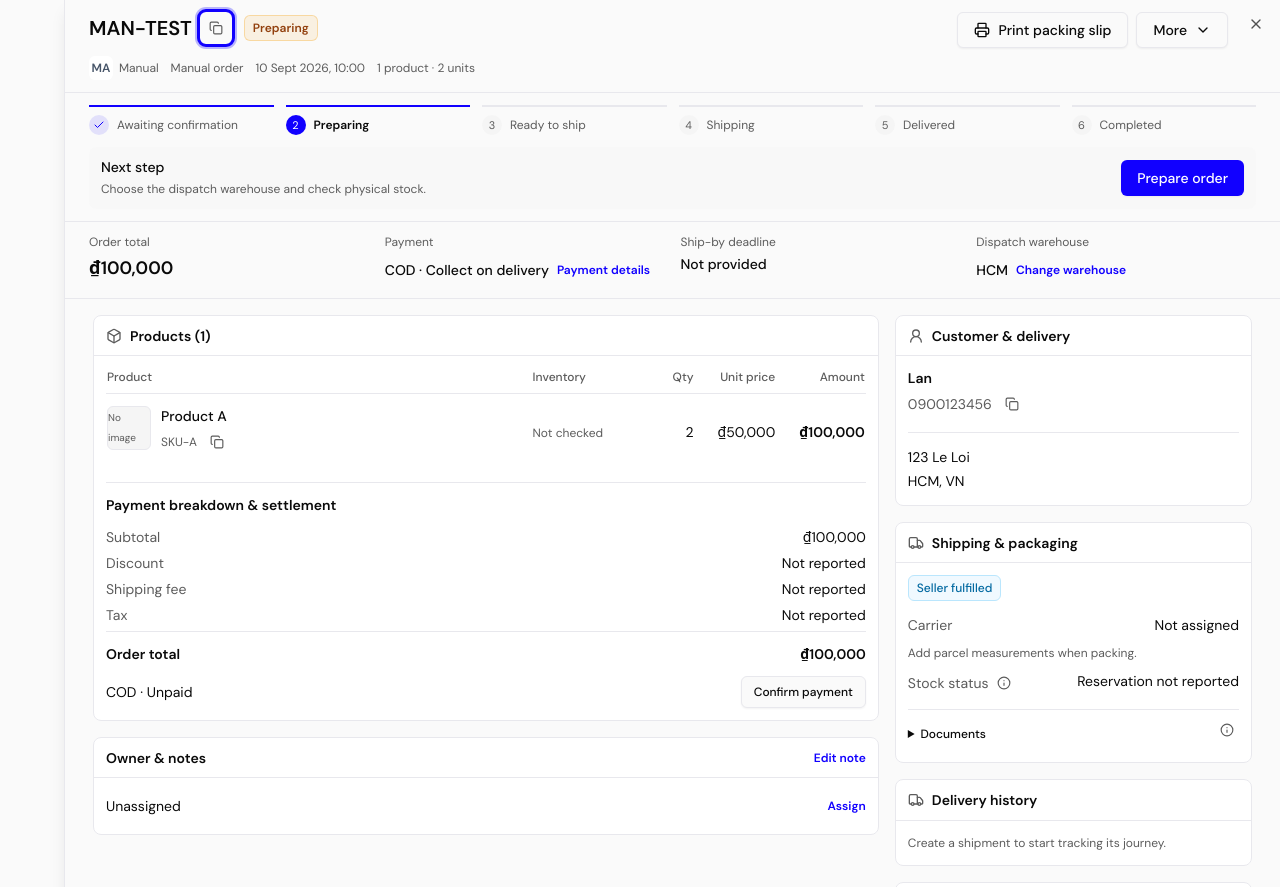
Test: Order detail workflows › shows packing slips directly during acknowledged, without duplicating them in More
Expected: the button "Print packing slip" is shown, [957,12,1128,48]
Press the mouse on the button "More" at (1182, 30), box [1136,12,1228,48]
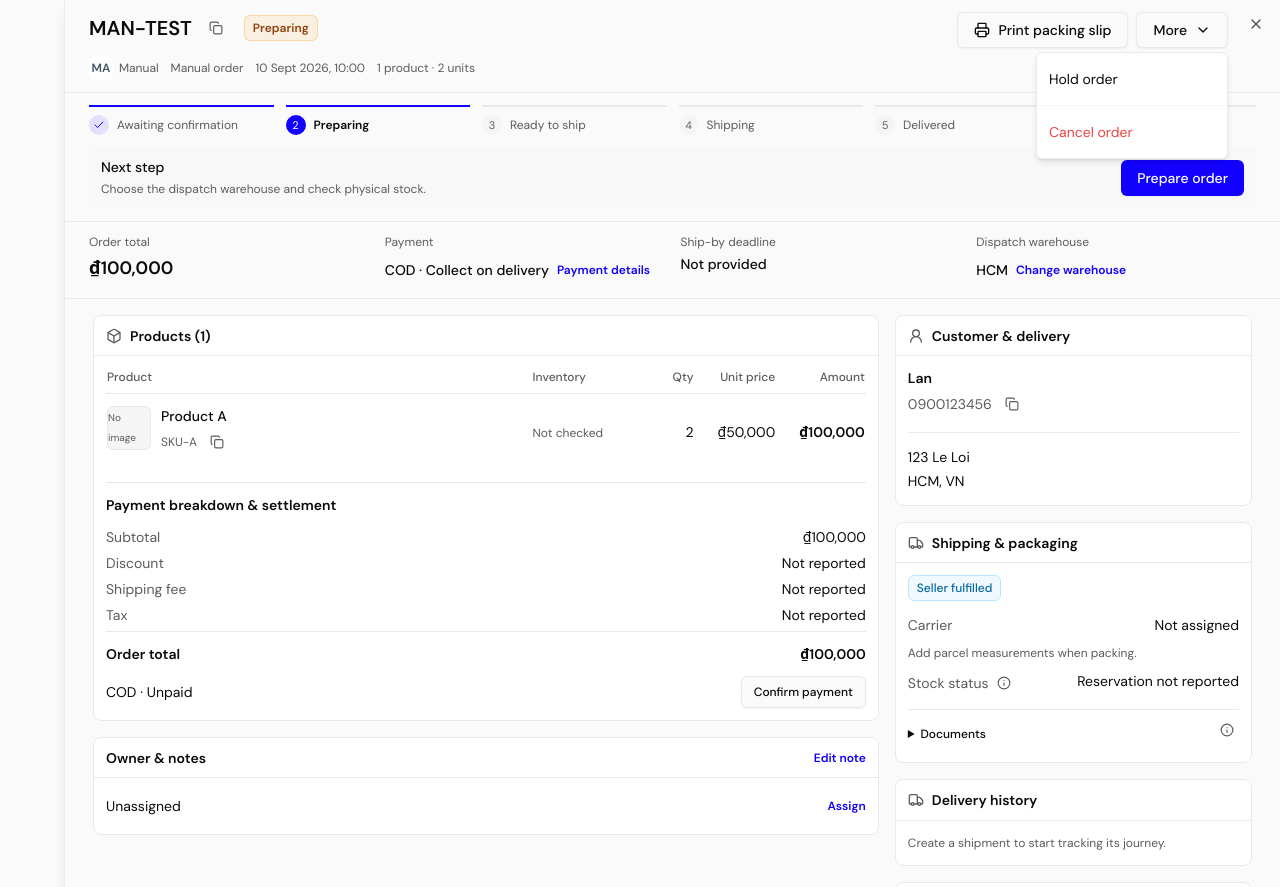
Now the menu item "Hold order" is shown, box [1049,70,1118,88]
